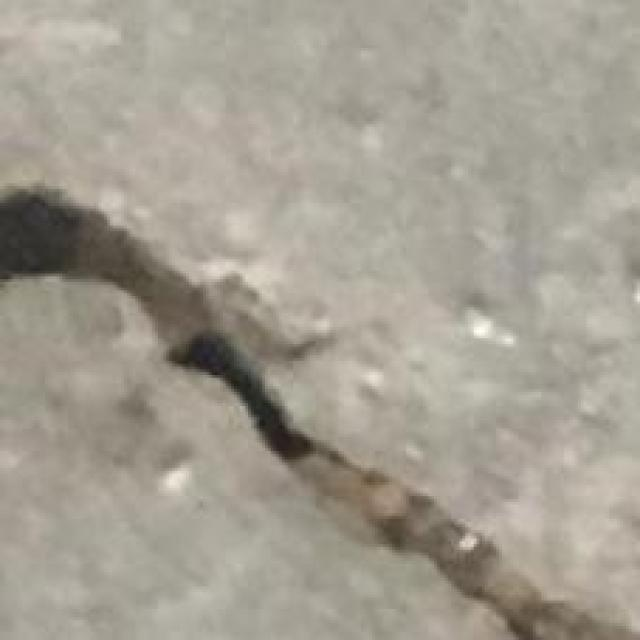diagonal crack: (0, 187, 639, 639)
